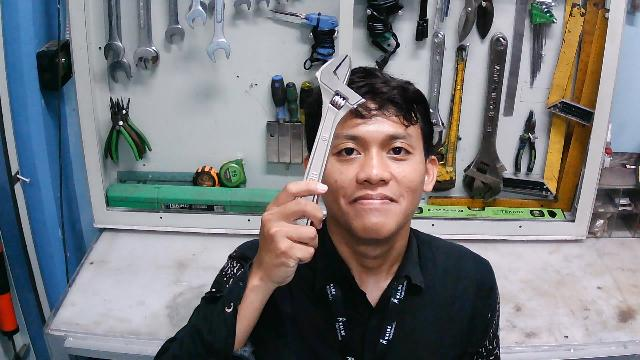kunci_inggris: (289, 53, 366, 242)
